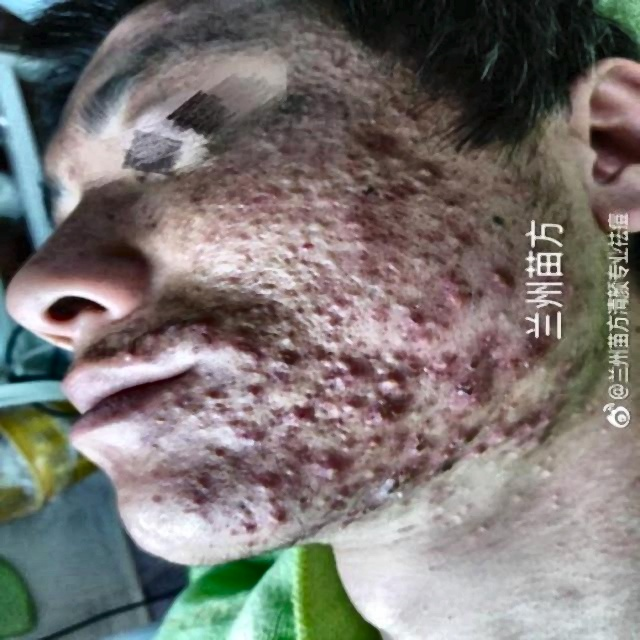nodule: (395, 237, 441, 283), (225, 500, 270, 547), (342, 253, 396, 291), (221, 421, 293, 449), (448, 371, 491, 415), (394, 306, 439, 348), (320, 210, 385, 239), (180, 470, 222, 514), (314, 451, 352, 497), (180, 382, 244, 409), (420, 224, 478, 252), (245, 168, 305, 195), (282, 396, 335, 425), (511, 336, 558, 368), (269, 317, 314, 350), (276, 456, 318, 490), (360, 182, 431, 202), (366, 290, 405, 326), (234, 381, 278, 411), (407, 347, 452, 376), (409, 162, 456, 188), (316, 352, 356, 382), (223, 210, 266, 237), (260, 494, 292, 530), (241, 472, 282, 499), (477, 270, 519, 296), (223, 242, 260, 270), (438, 275, 473, 304), (260, 202, 302, 226), (110, 342, 149, 367), (317, 291, 353, 318), (305, 122, 345, 146), (341, 146, 377, 172), (221, 321, 256, 347), (389, 100, 430, 122), (241, 349, 277, 374), (346, 429, 385, 452), (562, 366, 594, 394), (370, 406, 412, 427), (438, 445, 473, 470), (321, 395, 360, 417), (363, 124, 394, 151), (367, 472, 405, 494), (463, 344, 499, 366), (520, 414, 551, 438), (280, 230, 306, 258), (484, 419, 506, 451), (403, 435, 430, 459), (195, 312, 221, 336), (256, 267, 288, 285), (378, 364, 403, 386), (235, 299, 259, 320), (312, 275, 338, 291)
